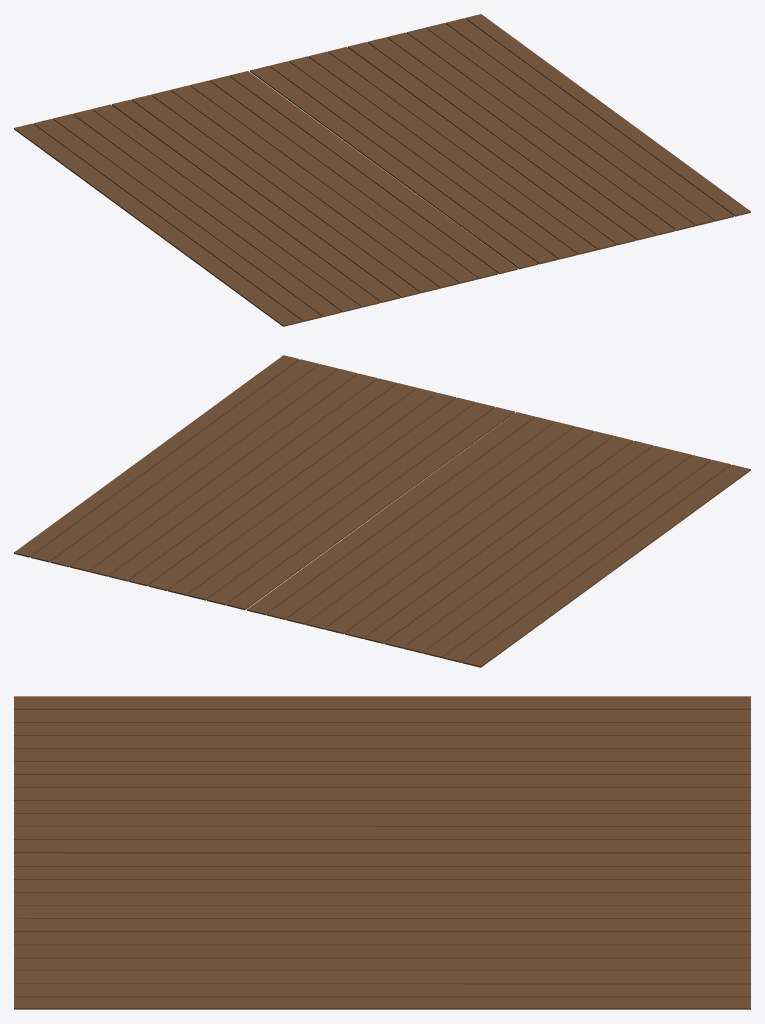
Rendered from Parquet_1.fbx.
3 renders of one model, top to bottom at view 1: azimuth 30°, elevation 25°; view 2: azimuth 150°, elevation 25°; view 3: azimuth 270°, elevation 25°, orthographic. The views are drawn at different scales.
Visible parts, largest first — view 1: Parquet_1; view 2: Parquet_1; view 3: Parquet_1.
Boxes of the visible parts, left/top/right/bottom form: Parquet_1: left=14, top=14, right=750, bottom=326; Parquet_1: left=14, top=355, right=750, bottom=667; Parquet_1: left=14, top=696, right=750, bottom=1009.
Size of the model in its own units: 489 by 489 by 1.41.
